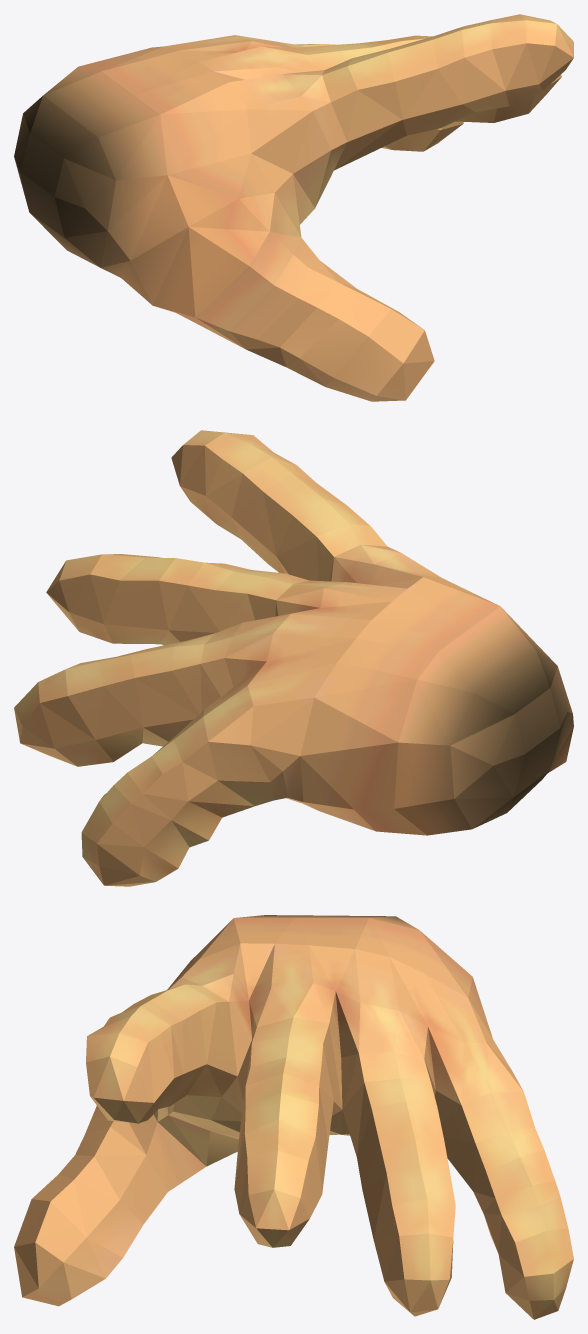
The model's file is left hand 3.obj.
The picture shows the model from 3 angles, top to bottom: view 1: azimuth 30°, elevation 25°; view 2: azimuth 150°, elevation 25°; view 3: azimuth 270°, elevation 25°; orthographic projection. The views are drawn at different scales.
Visible parts, largest first — view 1: n0b0_n0b0.002; view 2: n0b0_n0b0.002; view 3: n0b0_n0b0.002.
Part boxes in pixels (<box>): n0b0_n0b0.002: <box>14,14,573,401</box>; n0b0_n0b0.002: <box>14,430,573,886</box>; n0b0_n0b0.002: <box>14,915,573,1319</box>.
Bounding box in the file's own units: 8.4 × 5.08 × 7.16.
Materials: 1 (1 with a texture image).
